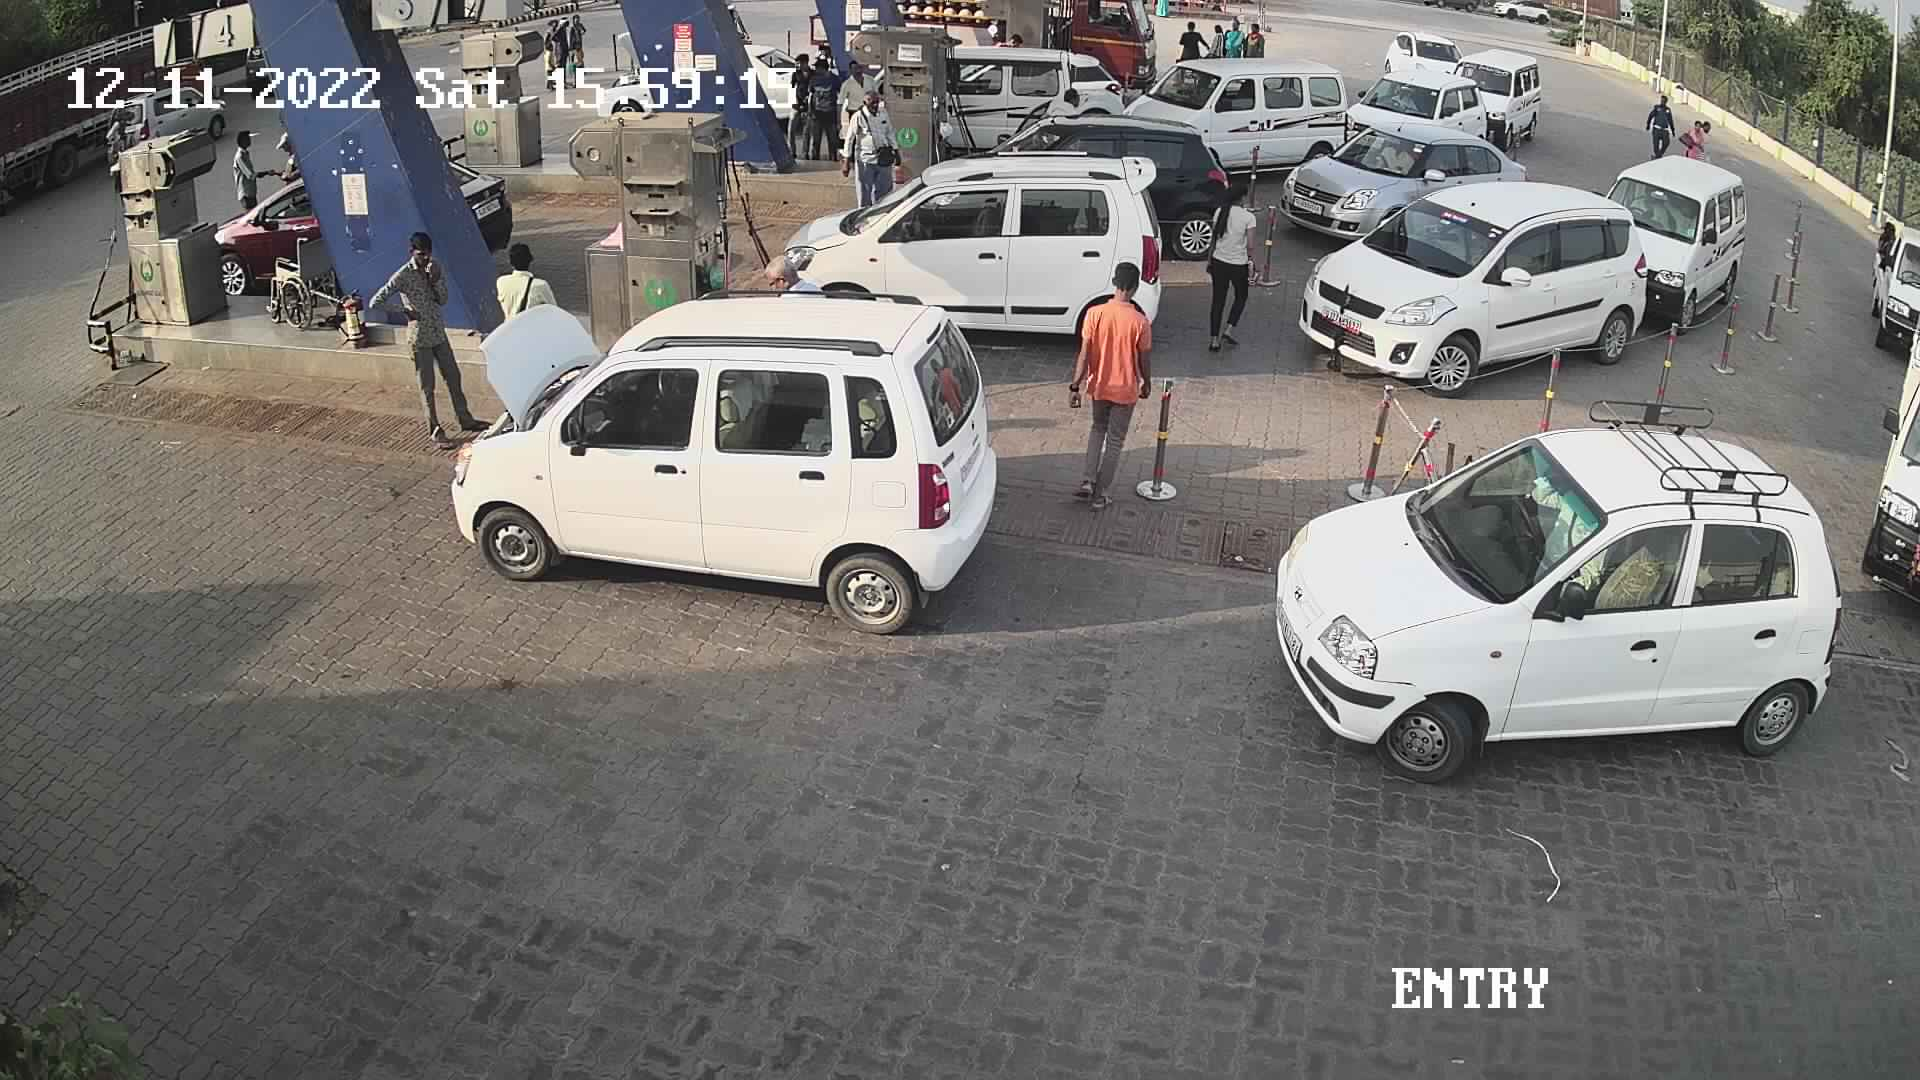Car: (1266, 406, 1853, 795), (451, 277, 1004, 645), (1288, 177, 1652, 397), (803, 149, 1182, 357), (212, 107, 510, 318), (964, 98, 1234, 257), (1269, 108, 1526, 257), (1104, 45, 1358, 191), (894, 24, 1127, 174), (1585, 138, 1756, 336), (1854, 291, 1920, 657), (1346, 65, 1501, 154), (1437, 44, 1551, 146), (91, 80, 233, 161), (737, 32, 829, 135), (1865, 214, 1917, 353), (1371, 17, 1462, 84)
HMV: (0, 0, 229, 215)
